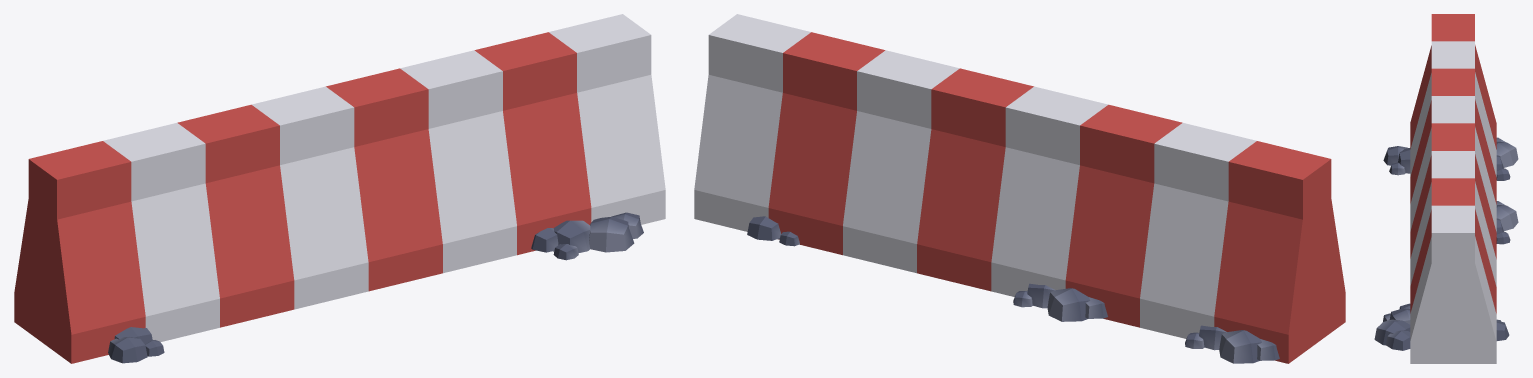
The model's file is barrier.glb.
The picture shows the model from 3 angles, left to right: view 1: azimuth 30°, elevation 25°; view 2: azimuth 150°, elevation 25°; view 3: azimuth 270°, elevation 25°; orthographic projection. The views are drawn at different scales.
Parts seen in each view (by area): view 1: Plane; view 2: Plane; view 3: Plane.
Boxes of the visible parts, x1,y1,x2,y2 form: Plane: [14, 14, 665, 363]; Plane: [694, 14, 1345, 363]; Plane: [1374, 14, 1518, 363].
Bounding box in the file's own units: 7.2 × 2.01 × 2.
1 material, 1 textured.
